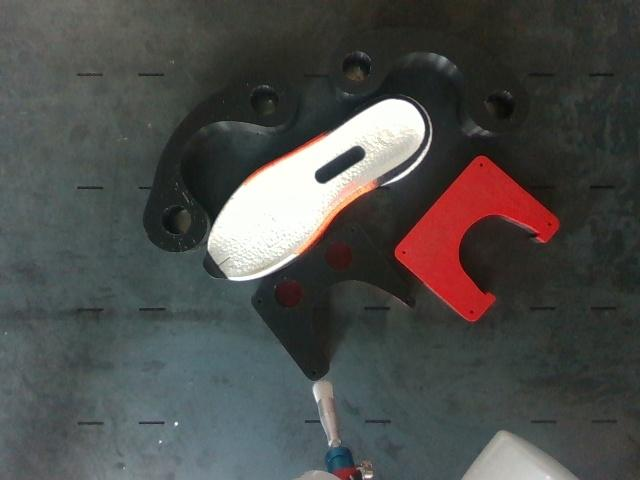shoes: (205, 99, 424, 278)
